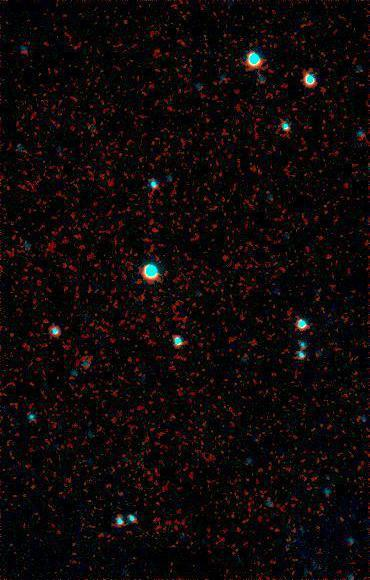star: (273, 96, 303, 126)
